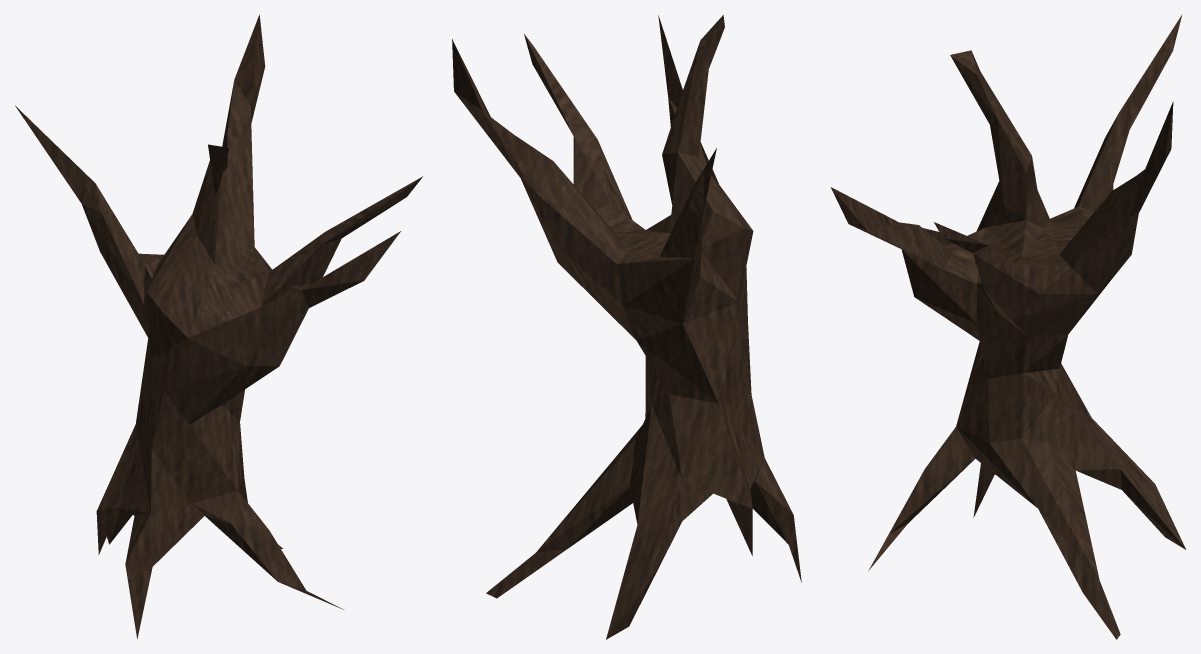
File: Arvore_A.fbx
The picture shows the model from 3 angles, left to right: view 1: azimuth 30°, elevation 25°; view 2: azimuth 150°, elevation 25°; view 3: azimuth 270°, elevation 25°; orthographic projection. The views are drawn at different scales.
Visible parts, largest first — view 1: Arvore_A; view 2: Arvore_A; view 3: Arvore_A.
Part boxes in pixels (x1=…): Arvore_A: x1=15, y1=14, x2=422, y2=638; Arvore_A: x1=452, y1=15, x2=801, y2=639; Arvore_A: x1=830, y1=14, x2=1185, y2=639.
Bounding box in the file's own units: 588 × 995 × 593.
Materials: 1 (1 with a texture image).
